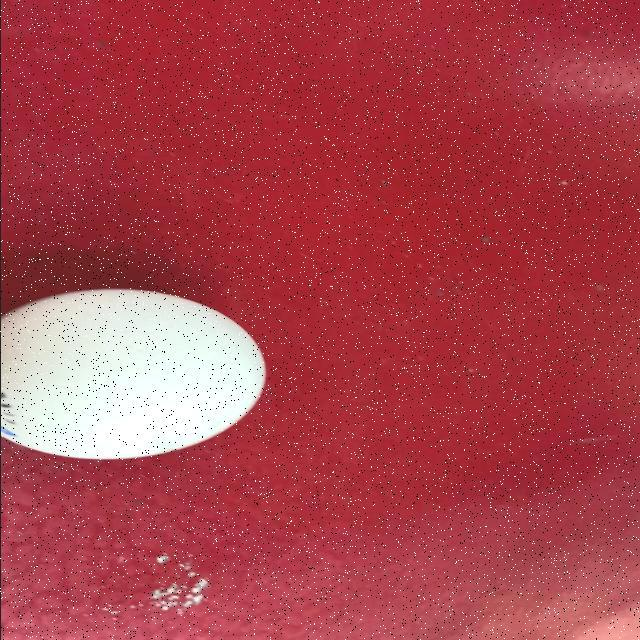ping-pong-ball: (0, 287, 273, 463)
